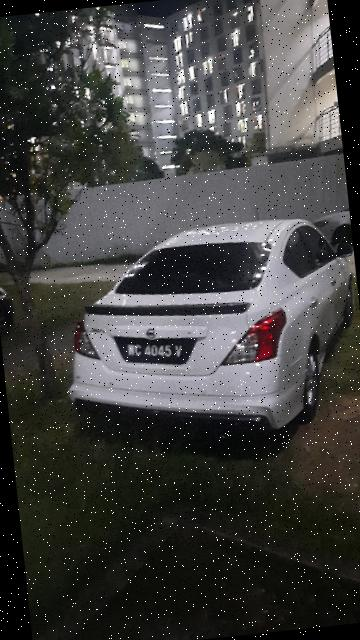License_Plate: (110, 329, 200, 374)
car: (50, 207, 360, 457)
